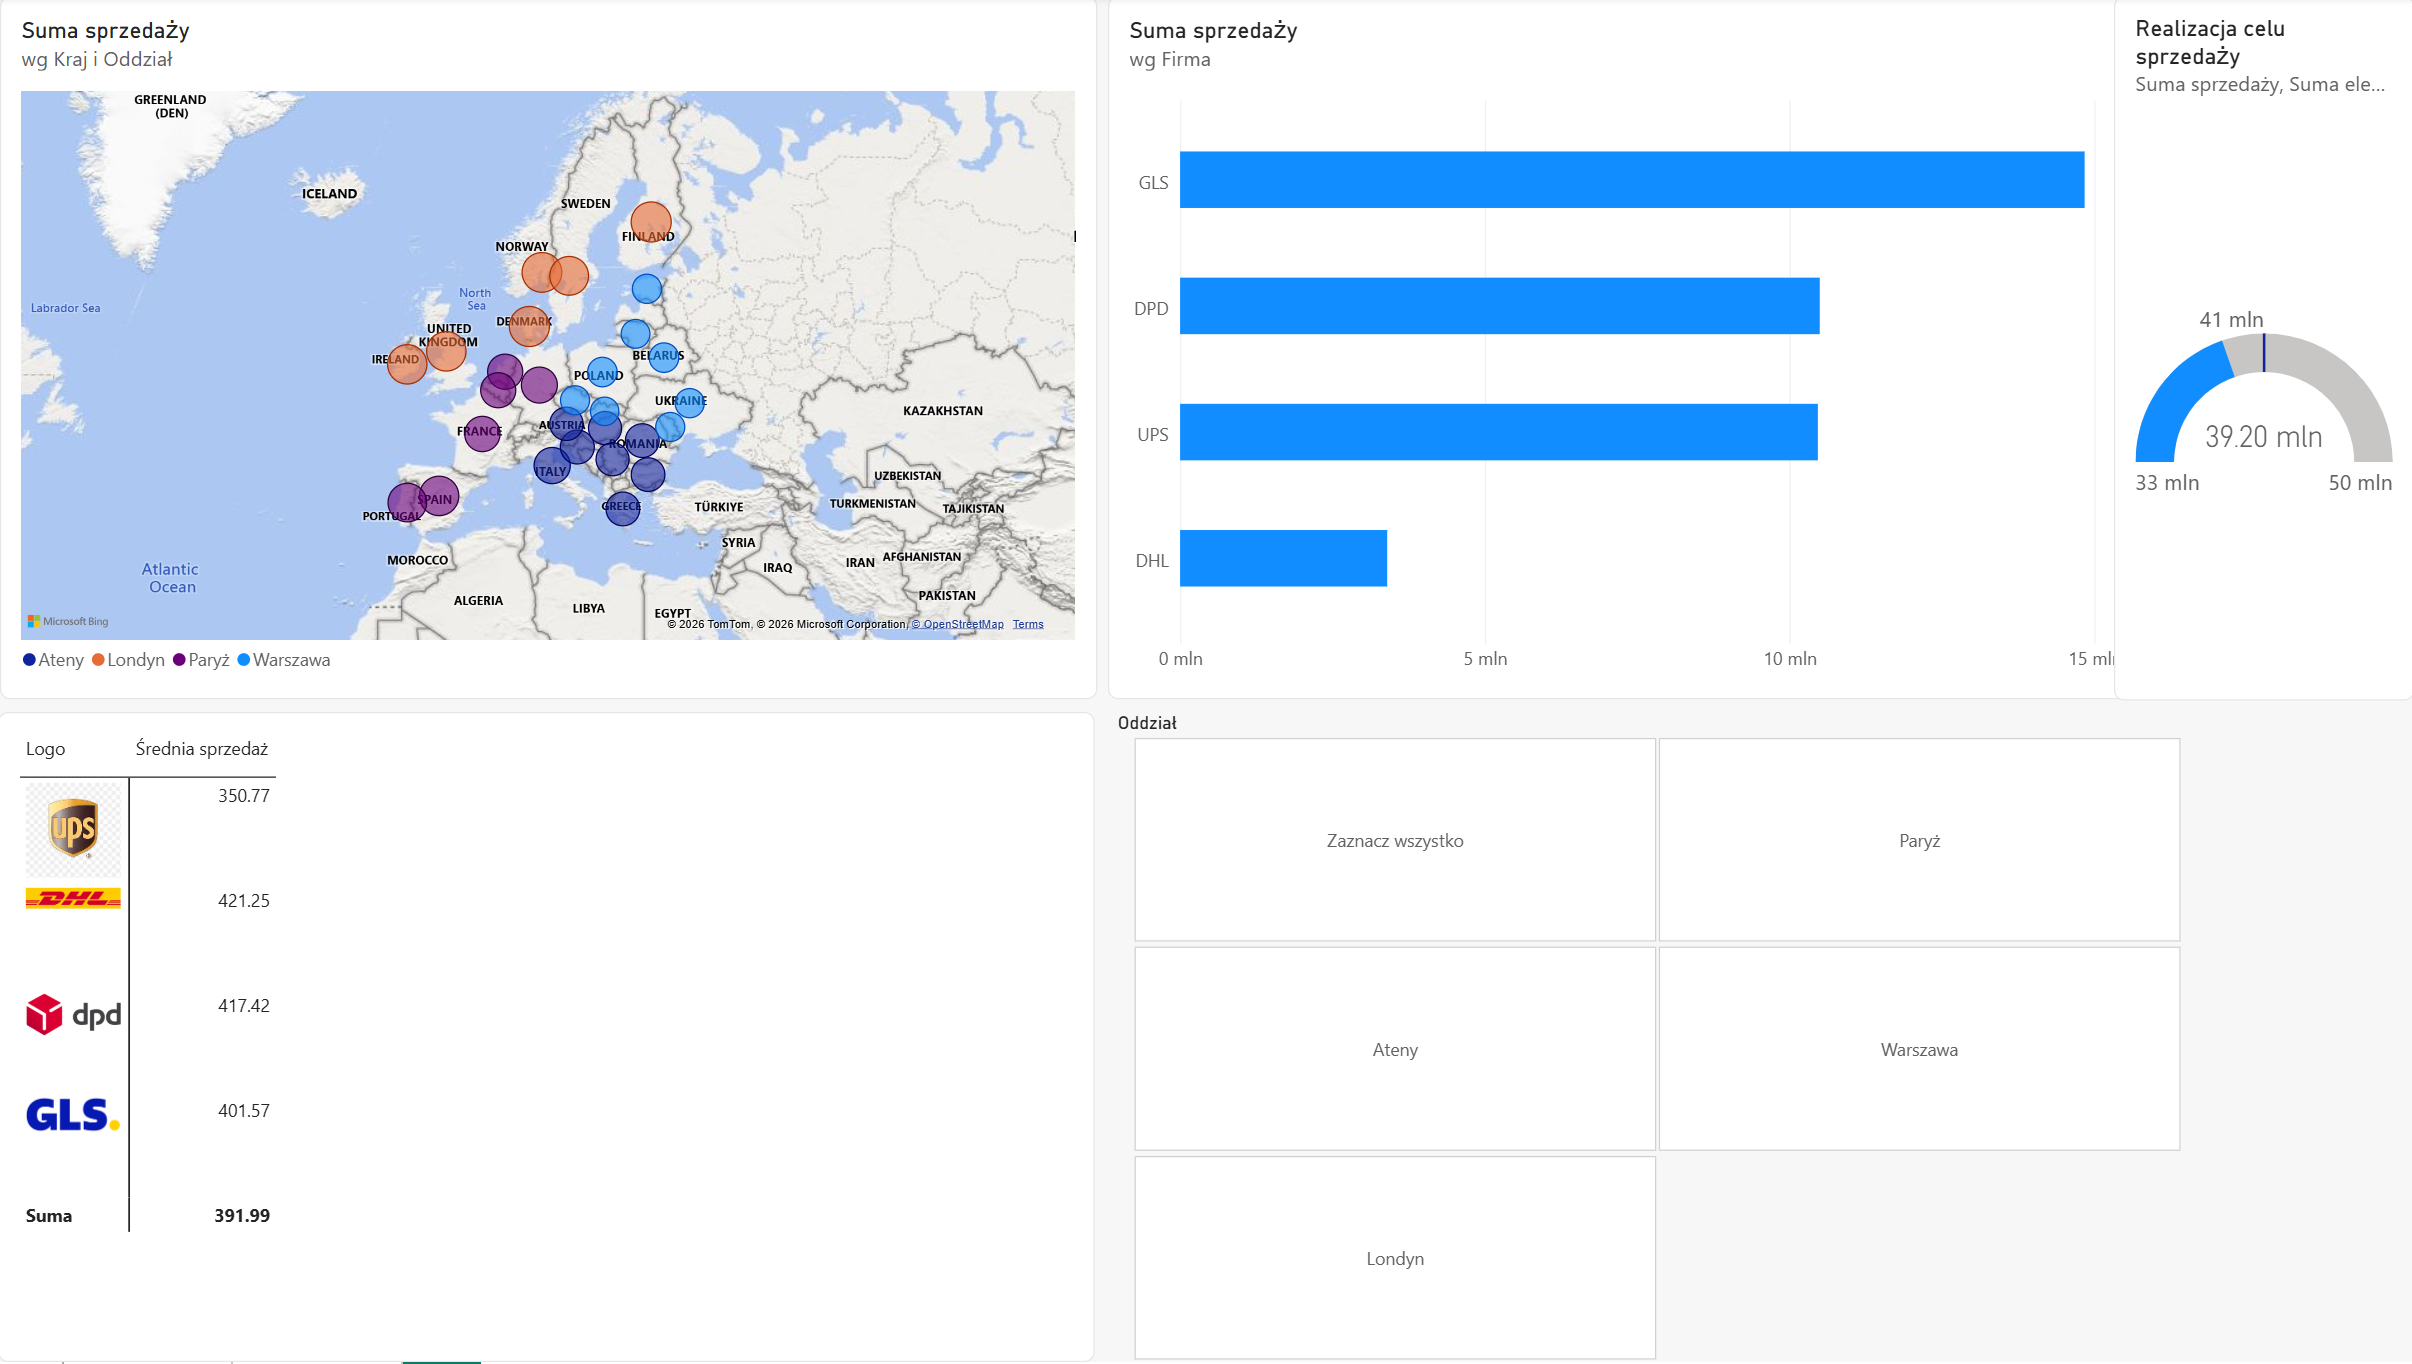

This screenshot's page, from the dashboard's own definition file:
{"tool":"powerbi","page":{"name":"Strona 1","canvas":[1920,1080],"ordinal":0},"visuals":[{"type":"map","fields":{"Category":["Kraje.Kraj"],"Series":["Oddziały.Oddział"],"Size":["Zakupy.Suma sprzedaży"]},"box":[10.3,0,867.3,556.2],"z":0},{"type":"pivotTable","fields":{"Rows":["FirmyKurierskie.Logo"],"Values":["Zakupy.Średnia sprzedaż"]},"box":[10,566,867,514],"z":1},{"type":"clusteredBarChart","fields":{"Category":["FirmyKurierskie.Firma"],"Y":["Zakupy.Suma sprzedaży"]},"box":[887,0,867,556],"z":2},{"type":"slicer","fields":{"Values":["Oddziały.Oddział"]},"box":[887,566,867,514],"z":3},{"type":"gauge","title":"Realizacja celu sprzedaży","fields":{"MaxValue":["Sum(Założenia.Wartość Maksymalna)"],"MinValue":["Sum(Założenia.Wartość Minimalna)"],"TargetValue":["Sum(Założenia.Wartość Docelowa)"],"Y":["Zakupy.Suma sprzedaży"]},"box":[1682.6,0,237.4,556.8],"z":4}]}

Visuals, with their boxes in screenshot pixels (x1, y1, x2, y2), scaled from the page's 1920x1080 canvas onto the 2412x1364 screenshot:
map - Kraje.Kraj x Oddziały.Oddział: [13,0,1102,702]
pivotTable - FirmyKurierskie.Logo x Zakupy.Średnia sprzedaż: [13,715,1102,1363]
clusteredBarChart - FirmyKurierskie.Firma x Zakupy.Suma sprzedaży: [1114,0,2203,702]
slicer - Oddziały.Oddział: [1114,715,2203,1363]
"Realizacja celu sprzedaży" gauge: [2114,0,2411,703]
